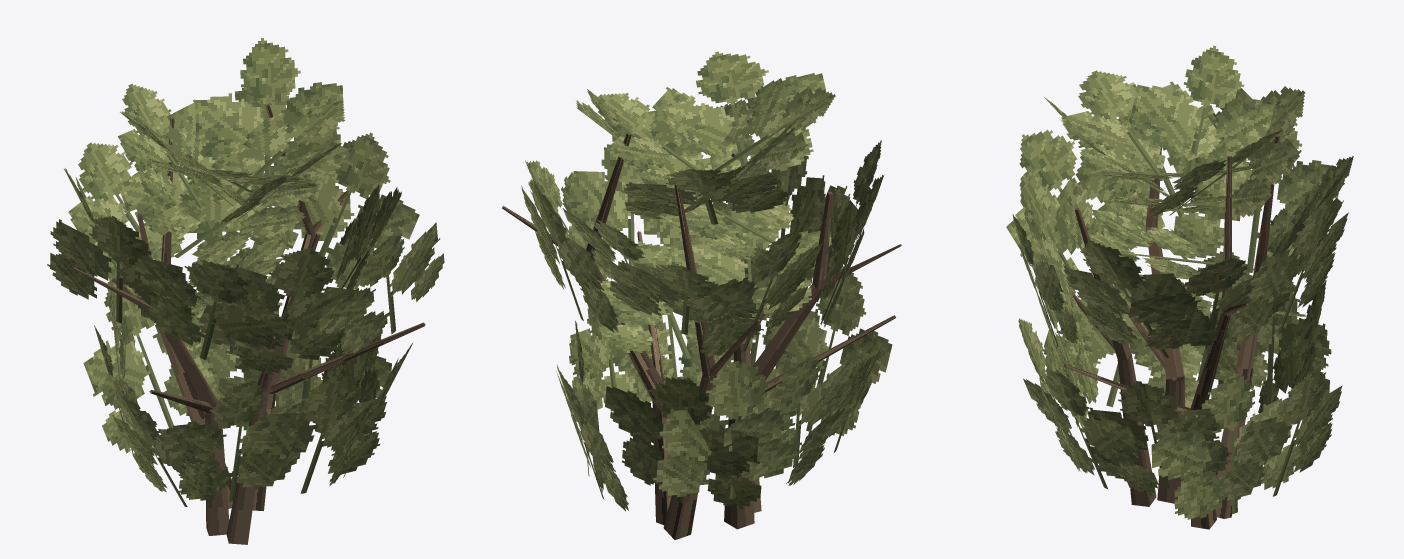
Rendered from sich_woodland_shrub.glb.
The picture shows the model from 3 angles, left to right: view 1: azimuth 30°, elevation 25°; view 2: azimuth 150°, elevation 25°; view 3: azimuth 270°, elevation 25°; orthographic projection. The views are drawn at different scales.
Parts seen in each view (by area): view 1: Leaf_Cards_Mesh, Woody_Stems_Mesh; view 2: Leaf_Cards_Mesh, Woody_Stems_Mesh; view 3: Leaf_Cards_Mesh, Woody_Stems_Mesh.
Part boxes in pixels (box(x1,y1,x2,y2)): Leaf_Cards_Mesh: box(47, 38, 444, 506); Woody_Stems_Mesh: box(72, 104, 425, 544); Leaf_Cards_Mesh: box(521, 51, 892, 511); Woody_Stems_Mesh: box(502, 132, 901, 539); Leaf_Cards_Mesh: box(1006, 45, 1353, 519); Woody_Stems_Mesh: box(1063, 135, 1279, 529).
Bounding box in the file's own units: 0.9118 × 1.04 × 0.9167.
1 material, 1 textured.
